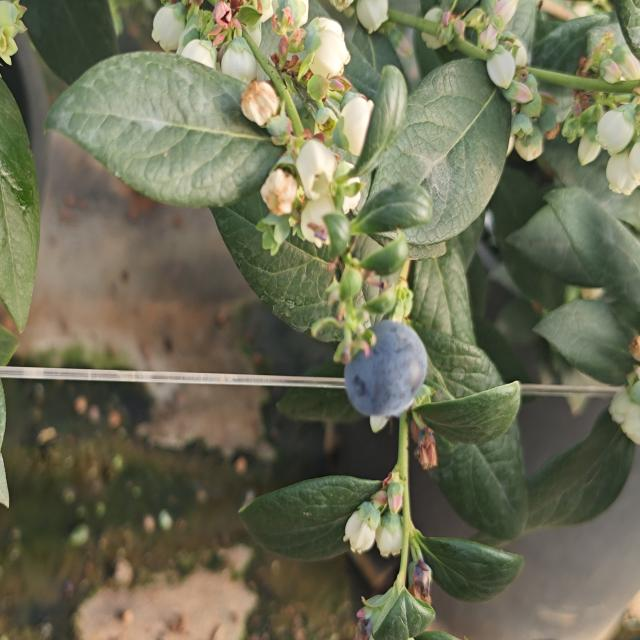ripe: (336, 300, 437, 425)
